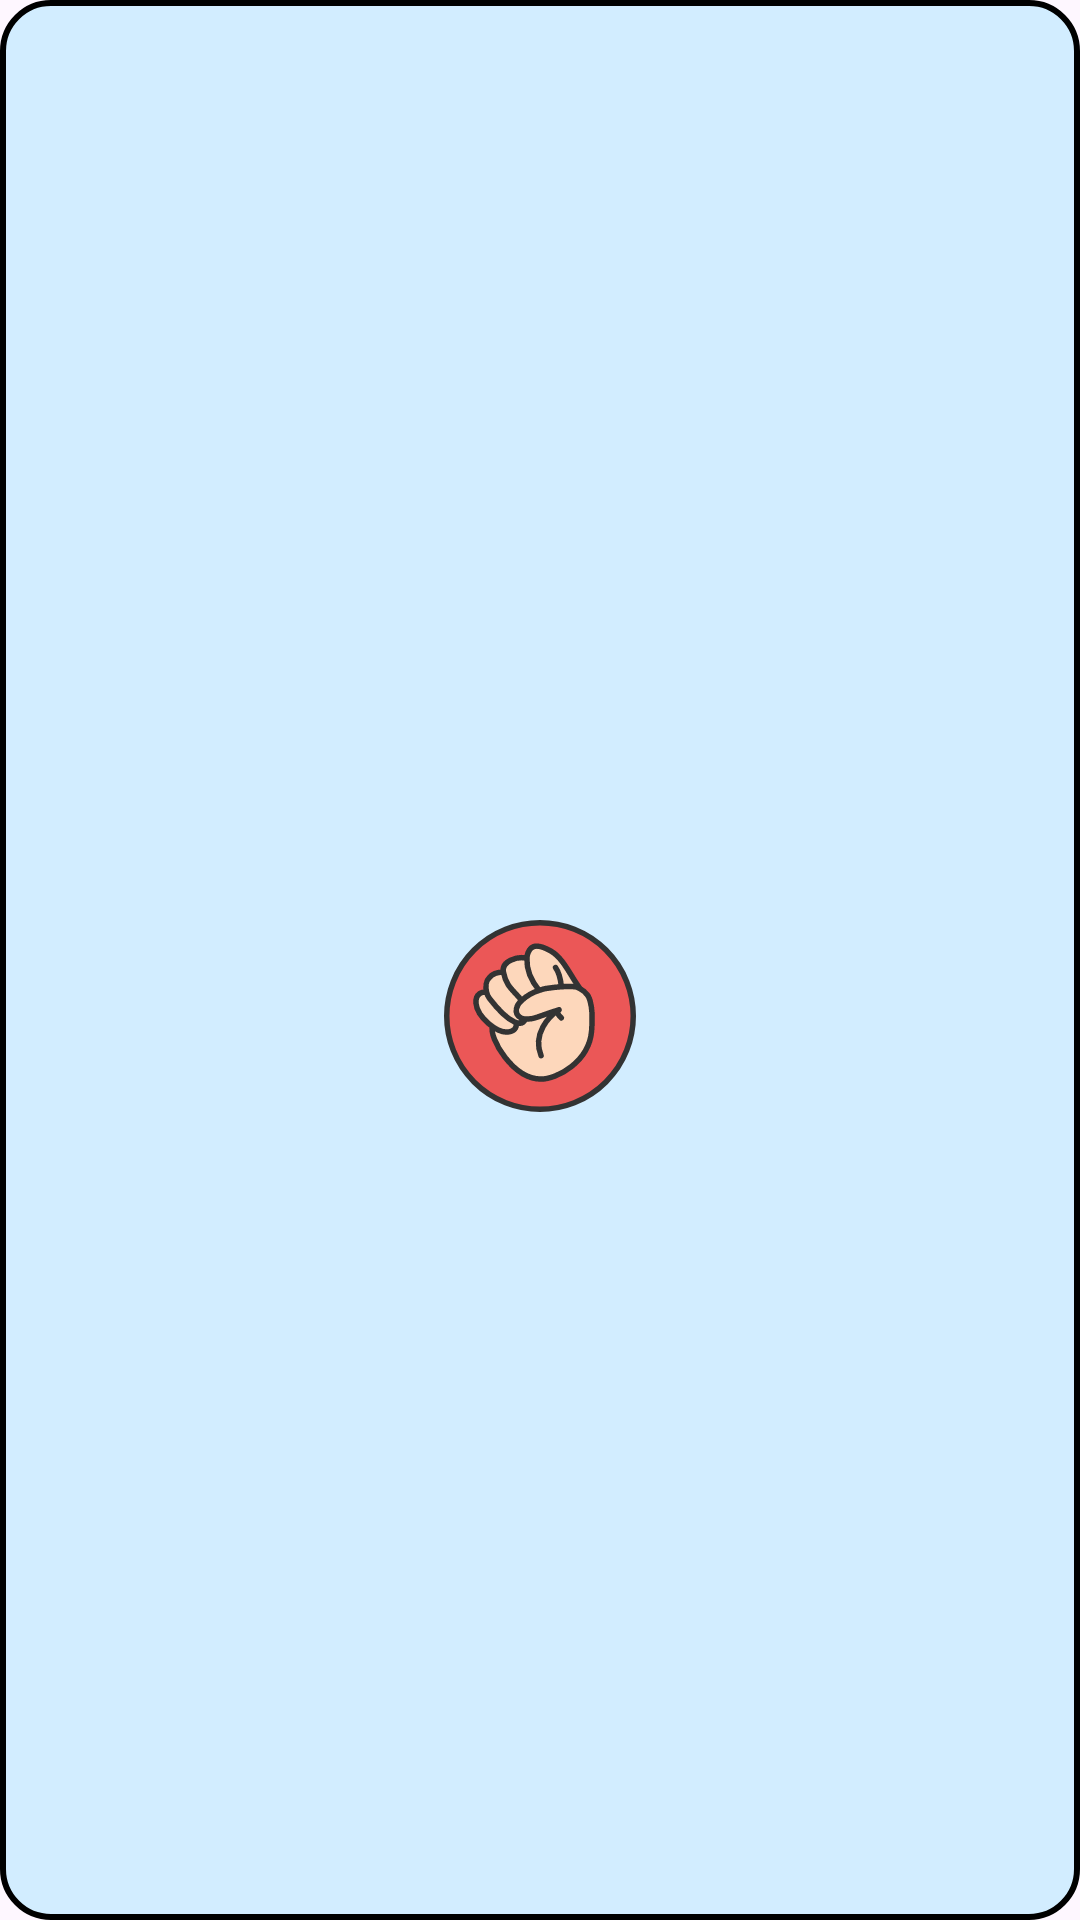

Icon bounding boxes for this 1080 x 1920 phone screenshot, format (left=x1, top=y1, right=x2, bottom=y2):
rock: (left=444, top=920, right=636, bottom=1112)
